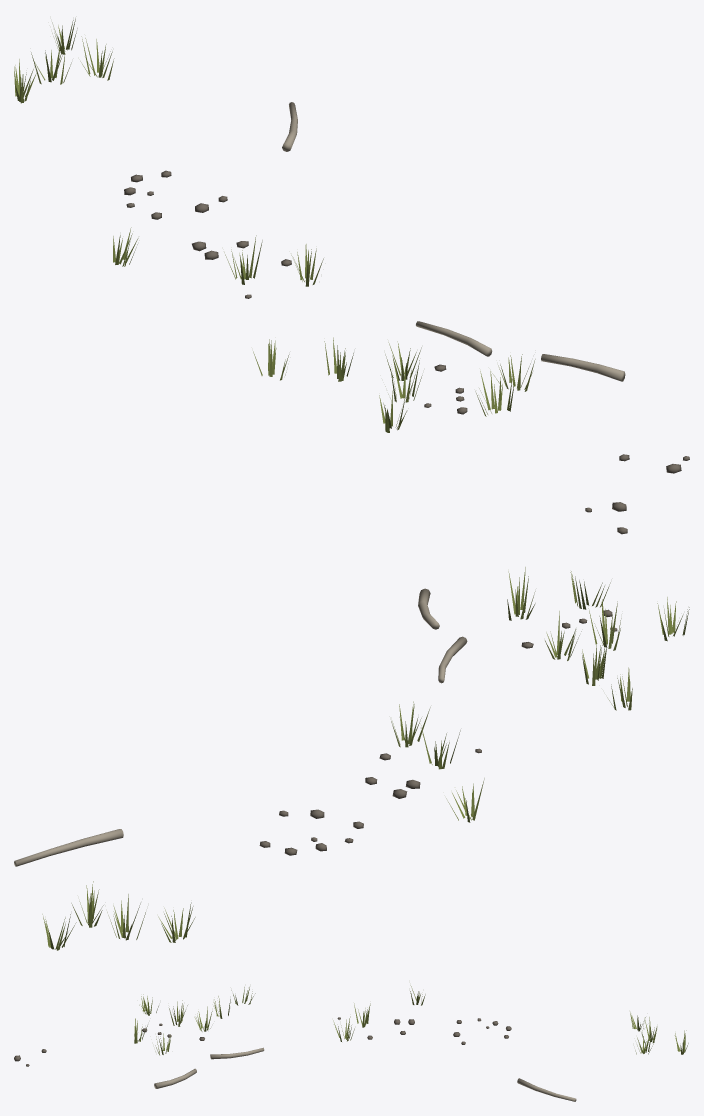
The model's file is beach_inner_center.glb.
3 views of the same model, one above another, from view 1: azimuth 30°, elevation 25°; view 2: azimuth 150°, elevation 25°; view 3: azimuth 270°, elevation 25° (orthographic). The views are drawn at different scales.
Visible parts, largest first — view 1: beach_inner_center_lod0; view 2: beach_inner_center_lod0; view 3: beach_inner_center_lod0.
Part boxes in pixels (x1,y1,x2,y2): beach_inner_center_lod0: [14, 18, 689, 473]; beach_inner_center_lod0: [14, 502, 689, 950]; beach_inner_center_lod0: [14, 985, 688, 1101].
Size of what is drawn, in the model's own units: 7.84 by 1.38 by 24.57.
